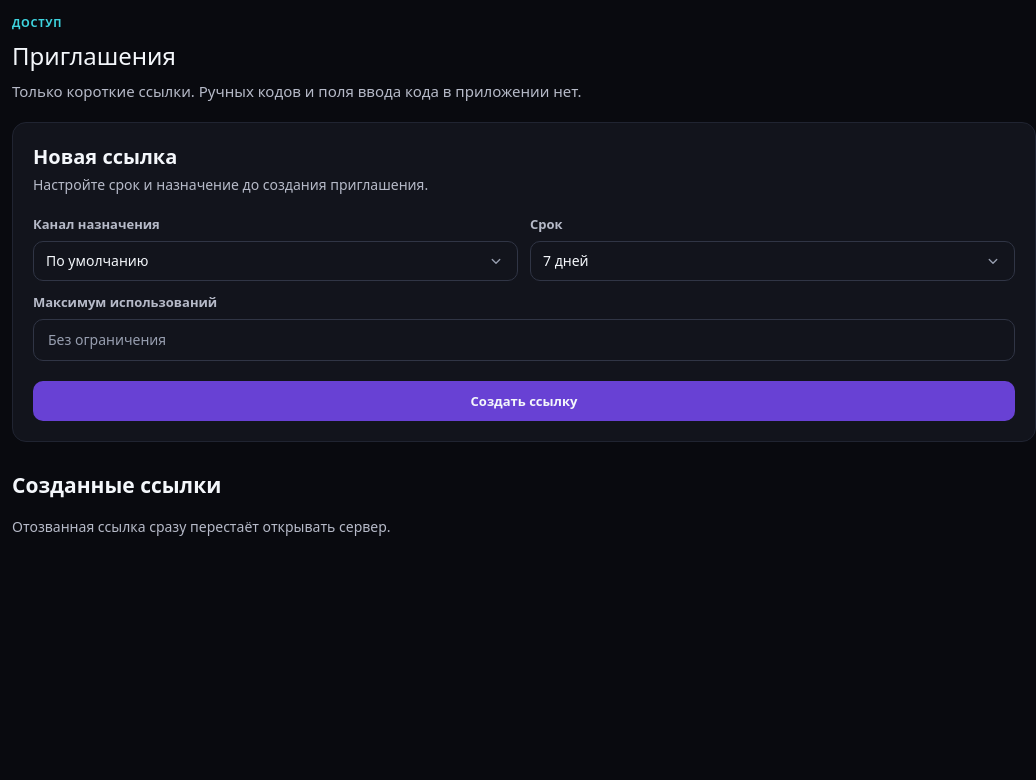
Scenario: server settings routes › creates invite links without rendering a manual code field
This screenshot has width=1036, height=780.
Click the button "Создать ссылку".
click(524, 401)  # box [33,381,1015,421]
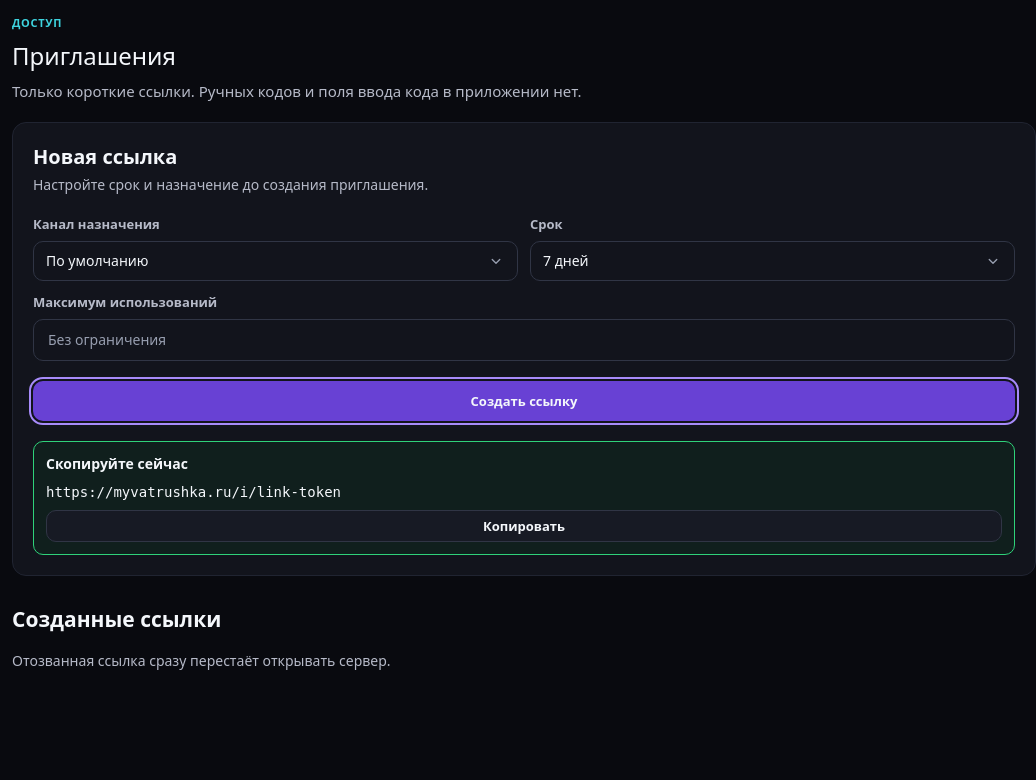
expect the text "https://myvatrushka.ru/i/link-token" is shown: met, box [46,484,341,500]
